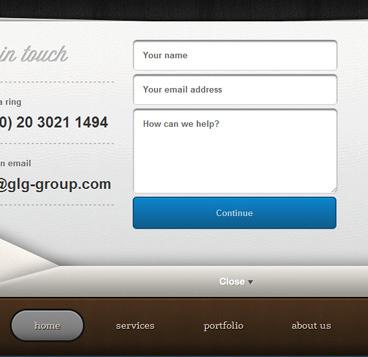button: (132, 197, 337, 230), (8, 308, 84, 342)
field: (132, 109, 338, 196), (132, 39, 337, 72), (132, 74, 338, 106)
